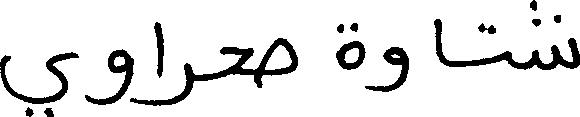X: (0, 47, 77, 116), (534, 0, 579, 74), (86, 44, 132, 109), (367, 42, 408, 96), (336, 18, 365, 92), (264, 33, 297, 80), (166, 58, 193, 109), (221, 42, 252, 81), (156, 17, 164, 110), (435, 14, 443, 68), (502, 46, 512, 71)
